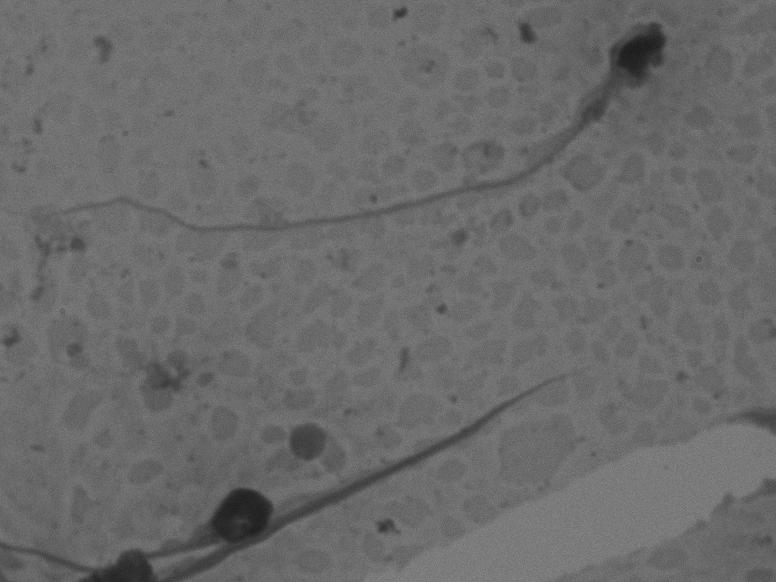Abnormal: (24, 2, 707, 307)
